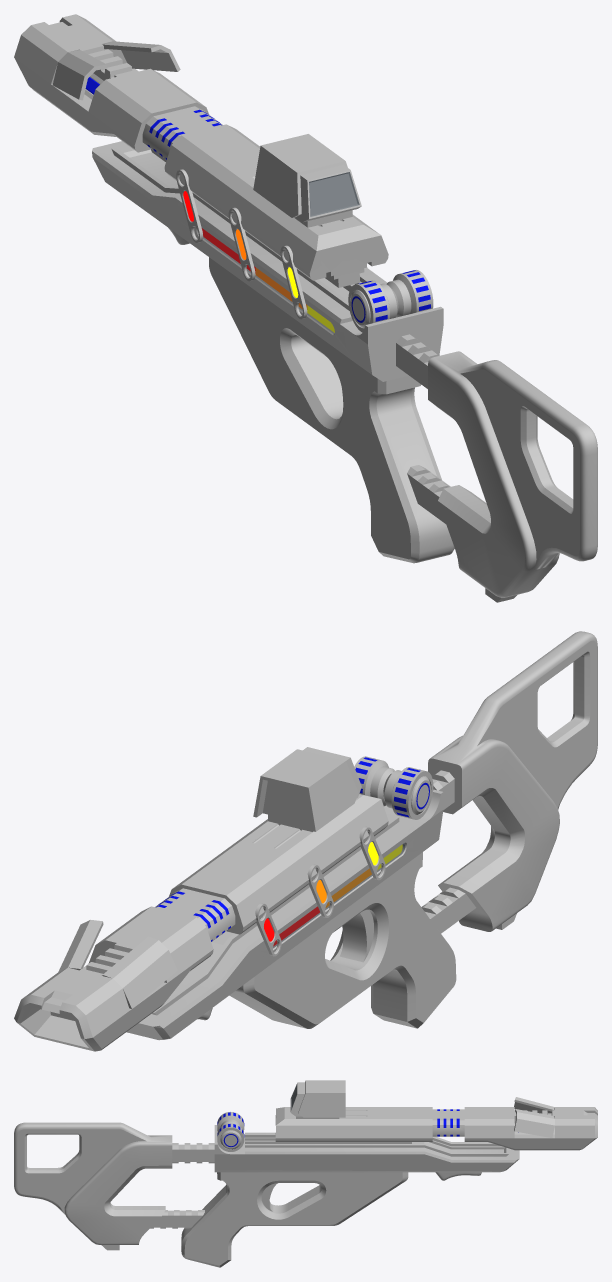
File: l03_animation.FBX
3 renders of one model, top to bottom at view 1: azimuth 30°, elevation 25°; view 2: azimuth 150°, elevation 25°; view 3: azimuth 270°, elevation 25°, orthographic. The views are drawn at different scales.
Visible parts, largest first — view 1: Object059, gun_low, jesaispas_low, canon_breakable_part, Object062, sight_low002, Object060, sight_low, sight_low001, canon_plate_b_low, canon_plate_a_low, jesaispas_low001 (+6 smaller); view 2: Object059, gun_low, Object062, jesaispas_low, canon_breakable_part, sight_low002, canon_plate_b_low, sight_low, Object060, trigger_low, canon_plate_a_low, jesaispas_low001 (+7 smaller); view 3: Object059, Object060, jesaispas_low, Object062, canon_breakable_part, sight_low002, canon_plate_a_low, sight_low, canon_plate_b_low, gun_low, aucunes_idee_low_03, aucunes_idee_low_04.
Part boxes in pixels (x1,y1,x2,y2): Object059: (396, 334, 597, 602); gun_low: (209, 257, 436, 563); jesaispas_low: (92, 141, 443, 381); canon_breakable_part: (164, 124, 388, 287); Object062: (14, 14, 222, 158); sight_low002: (253, 134, 347, 217); Object060: (307, 343, 454, 558); sight_low: (294, 165, 361, 227); sight_low001: (309, 172, 359, 216); canon_plate_b_low: (52, 50, 107, 100); canon_plate_a_low: (103, 41, 180, 71); jesaispas_low001: (202, 228, 334, 333); Object059: (421, 631, 597, 933); gun_low: (233, 852, 456, 1028); Object062: (14, 888, 235, 1051); jesaispas_low: (126, 789, 443, 1040); canon_breakable_part: (169, 794, 388, 934); sight_low002: (253, 749, 358, 831); canon_plate_b_low: (102, 936, 177, 1008); sight_low: (263, 747, 361, 831); Object060: (229, 930, 399, 1024); trigger_low: (340, 909, 373, 962); canon_plate_a_low: (58, 919, 103, 971); jesaispas_low001: (273, 843, 405, 948); Object059: (14, 1122, 214, 1250); Object060: (181, 1172, 408, 1267); jesaispas_low: (214, 1125, 519, 1172); Object062: (432, 1107, 597, 1150); canon_breakable_part: (275, 1107, 432, 1142); sight_low002: (298, 1080, 345, 1117); canon_plate_a_low: (514, 1109, 554, 1137); sight_low: (290, 1082, 339, 1118); canon_plate_b_low: (514, 1097, 554, 1113); gun_low: (181, 1184, 320, 1240); aucunes_idee_low_03: (217, 1123, 244, 1151); aucunes_idee_low_04: (220, 1130, 241, 1149).
Bounding box in the file's own units: 13.79 × 42.33 × 127.
